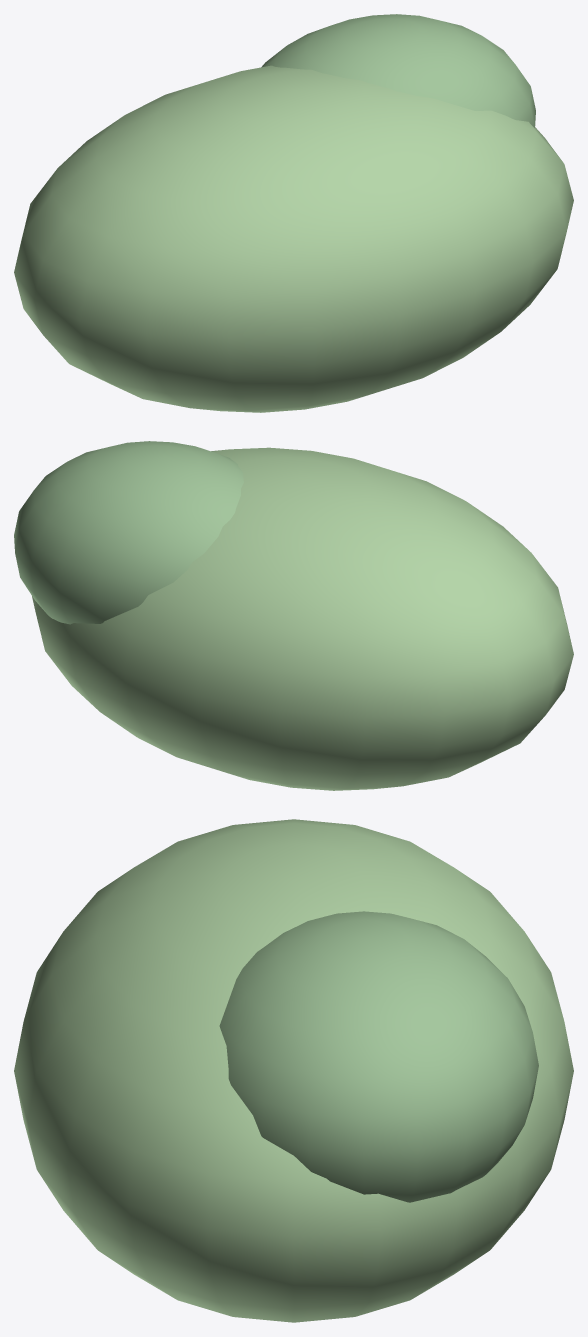
The model's file is hill.glb.
3 views of the same model, one above another, from view 1: azimuth 30°, elevation 25°; view 2: azimuth 150°, elevation 25°; view 3: azimuth 270°, elevation 25° (orthographic). The views are drawn at different scales.
Visible parts, largest first — view 1: hill; view 2: hill; view 3: hill.
Part boxes in pixels (x1,y1,x2,y2): hill: (14,14,573,412); hill: (14,441,573,790); hill: (14,819,573,1322).
Bounding box in the file's own units: 22.4 × 12.5 × 16.
